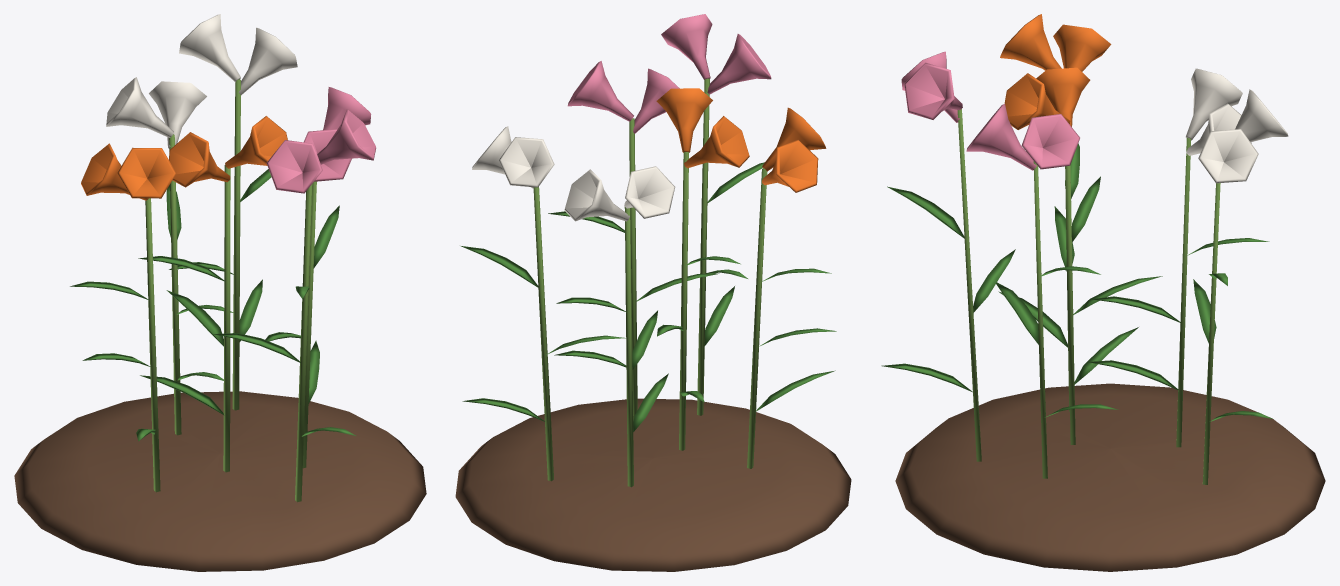
Rendered from lilies.glb.
3 views of the same model, side by side, from view 1: azimuth 30°, elevation 25°; view 2: azimuth 150°, elevation 25°; view 3: azimuth 270°, elevation 25° (orthographic). The views are drawn at different scales.
Parts seen in each view (by area): view 1: lilies; view 2: lilies; view 3: lilies.
Boxes of the visible parts, left/top/right/bottom form: lilies: left=14, top=14, right=426, bottom=571; lilies: left=455, top=14, right=851, bottom=571; lilies: left=881, top=14, right=1325, bottom=571.
Size of the model in its own units: 0.84 by 0.9393 by 0.8693.
